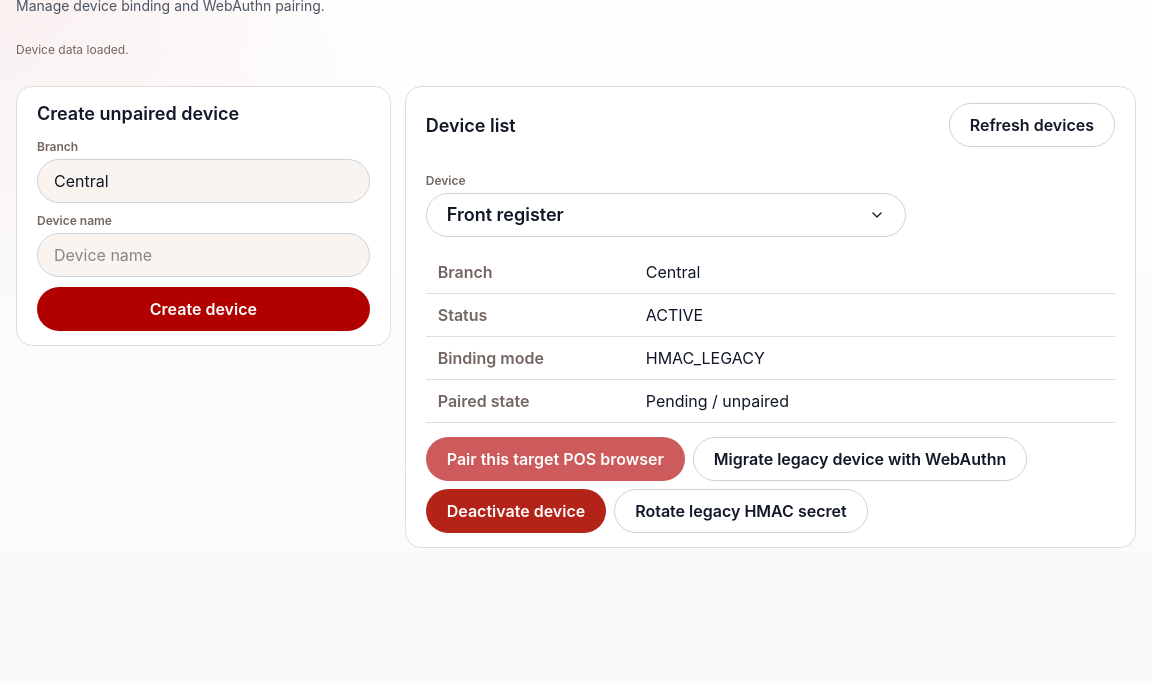
Test: DeviceManagement › shows a rotated legacy secret only in an ephemeral one-time panel
Click the button "Rotate legacy HMAC secret" at (741, 511), box 614,489 -> 868,533
(page scrolled)
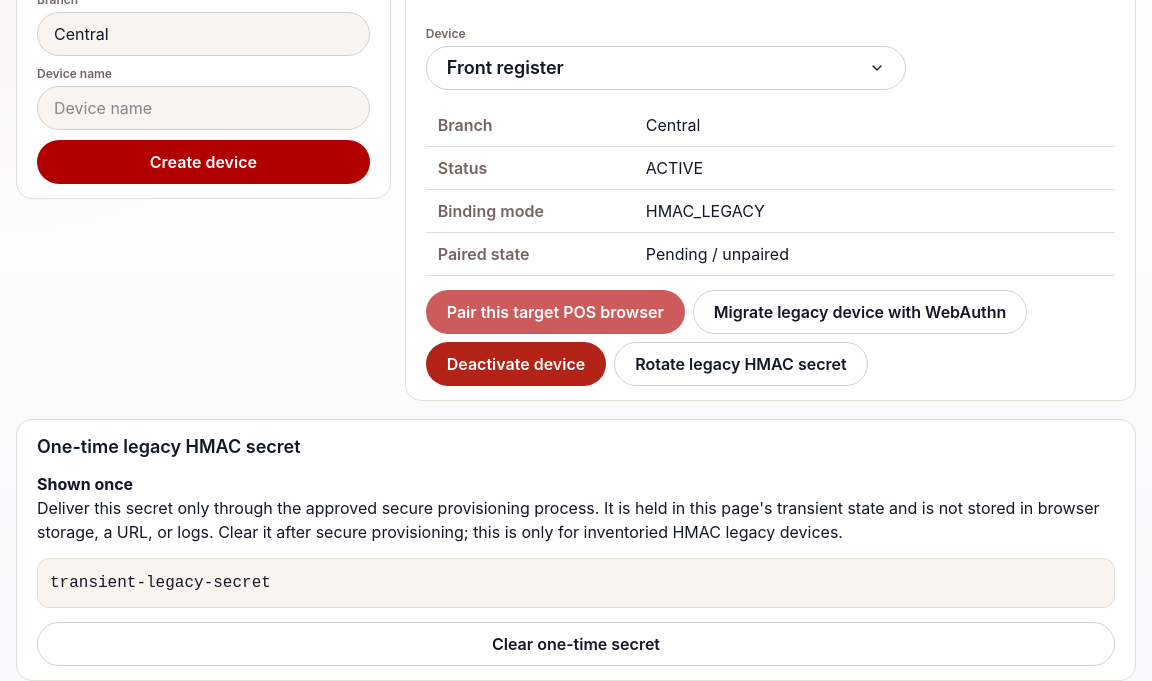
Now the text "transient-legacy-secret" is shown, box 37,558 -> 1115,608
Click the button "Clear one-time secret" at (576, 644), box 37,622 -> 1115,666
(page scrolled)
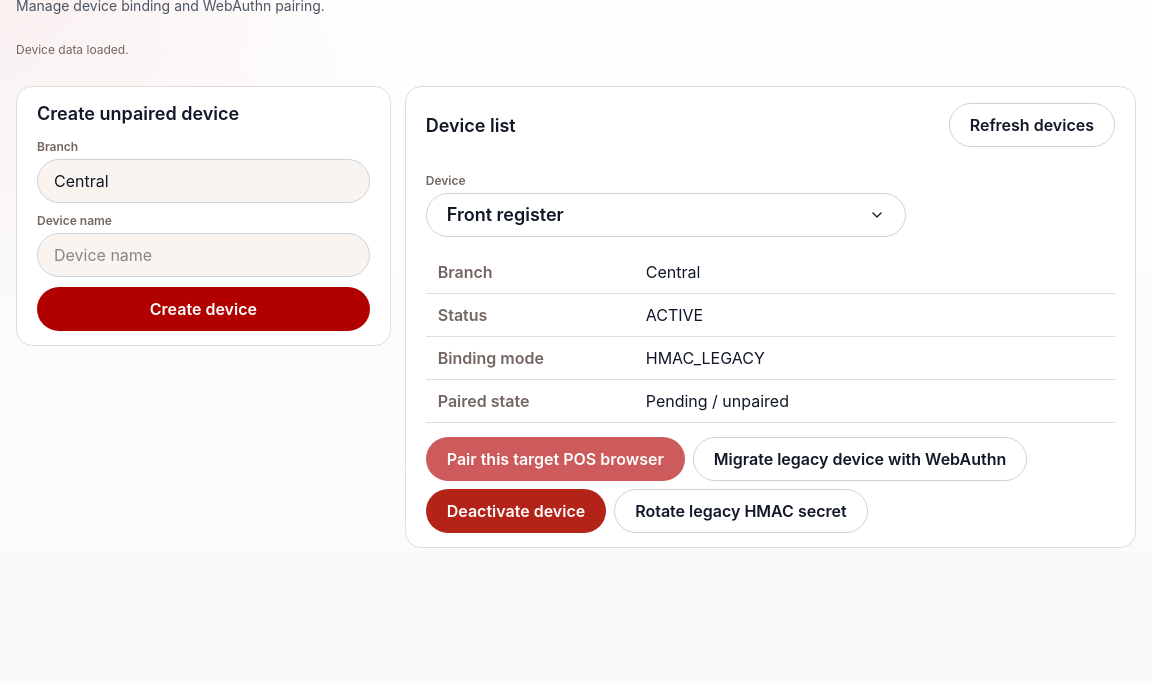
Now the text "transient-legacy-secret" is gone
